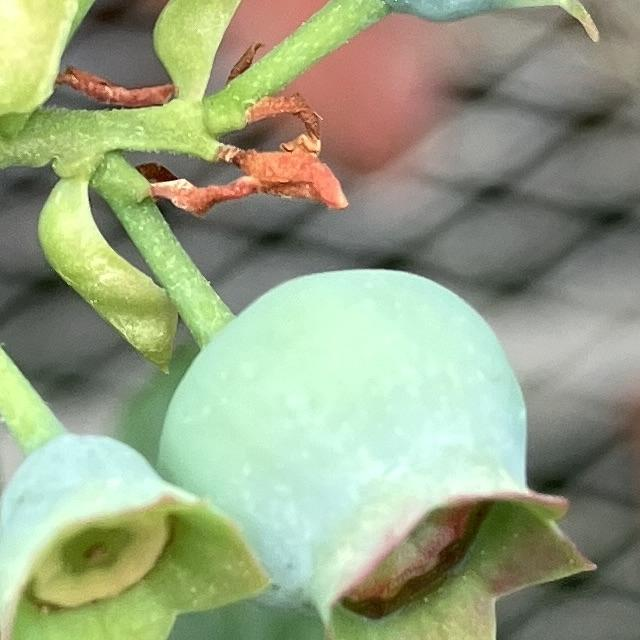Blueberries: (144, 246, 626, 640)
